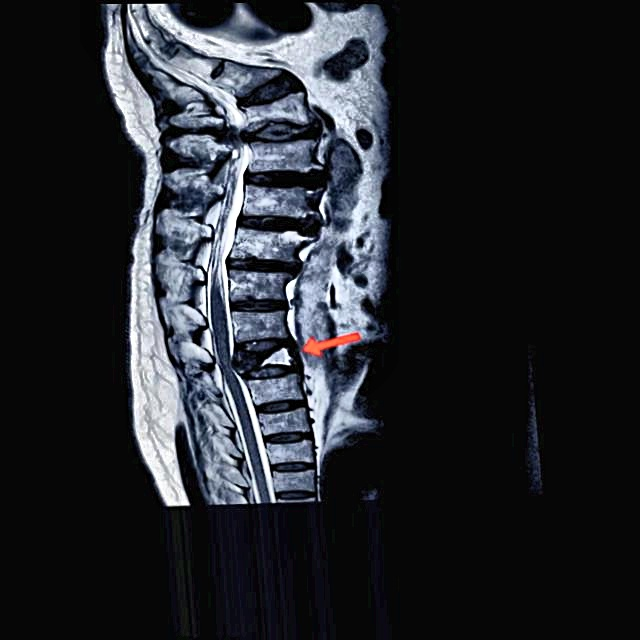Comminuted: (226, 317, 318, 396)
